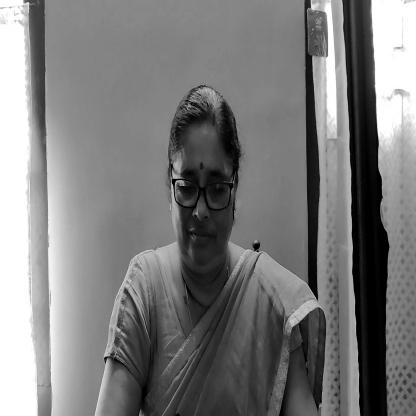Normal: (162, 92, 242, 276)
